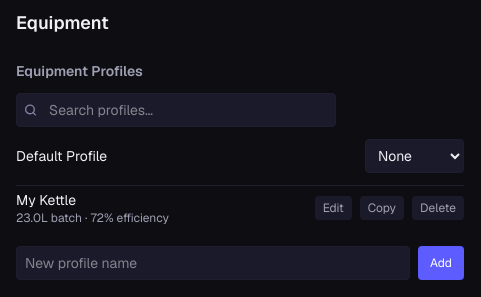
Test case: EquipmentPage - search › hides a non-matching profile
The width and height of the screenshot is (481, 297).
Type "Zzz" into the field with placeholder "Search profiles…" at (176, 110), box [16,93,336,127]
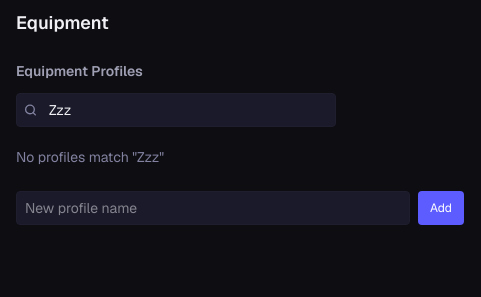
Check: the text "My Kettle" is gone
